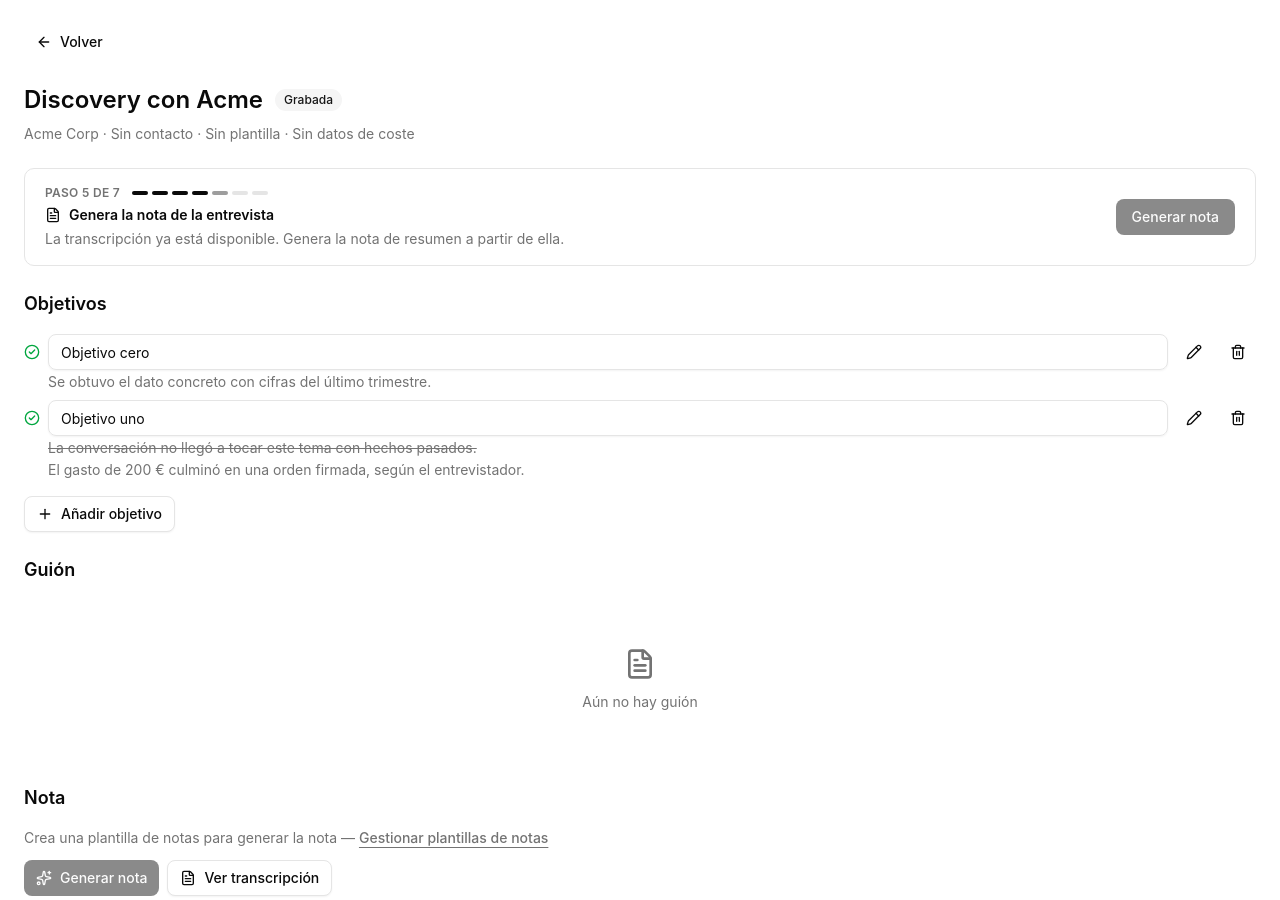
Scenario: ObjectivesSection (edición fusionada SPEC-042) › in-section editing › stops showing the evaluation reasons and the manual mark after saving a modified list
Expected: the text with test id "objective-override-text" is shown, [48,461,525,478]
Type " bis" into the field named "Objetivo 1" at {"x": 608, "y": 352}, box [48,334,1168,370]
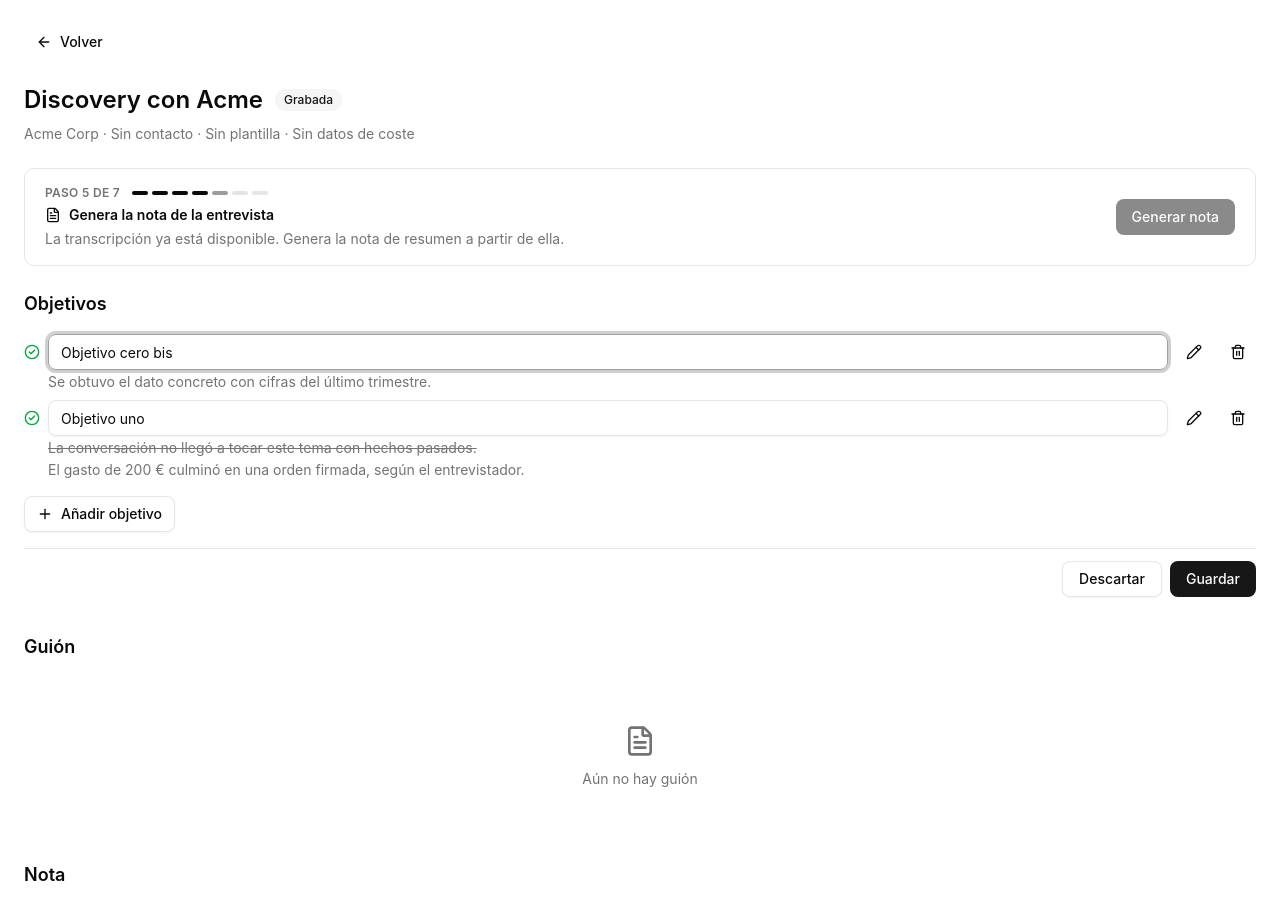
Click the button "Guardar" at {"x": 1213, "y": 579}, box [1170,561,1256,597]
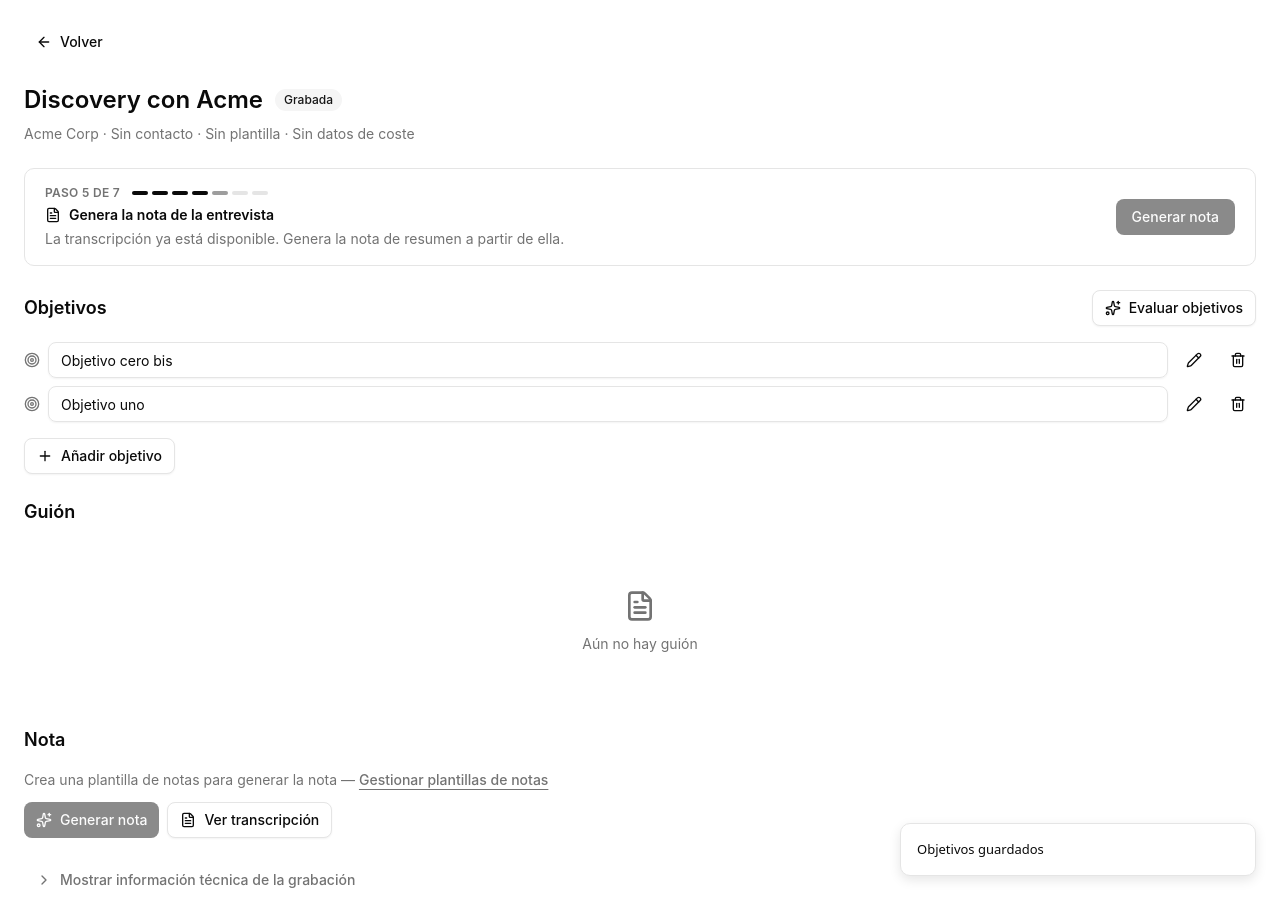
Expected: no elements with test id "objective-reason" are shown
Expected: the text with test id "objective-override-text" is gone
